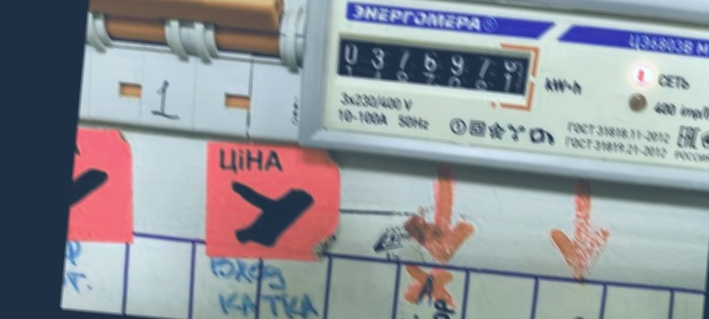0: (343, 42, 360, 66)
1: (502, 72, 513, 95)
3: (371, 48, 386, 70)
6: (423, 49, 440, 73)
7: (397, 47, 413, 72), (477, 55, 493, 79)
9: (450, 53, 466, 76)
screen: (324, 24, 544, 116)
